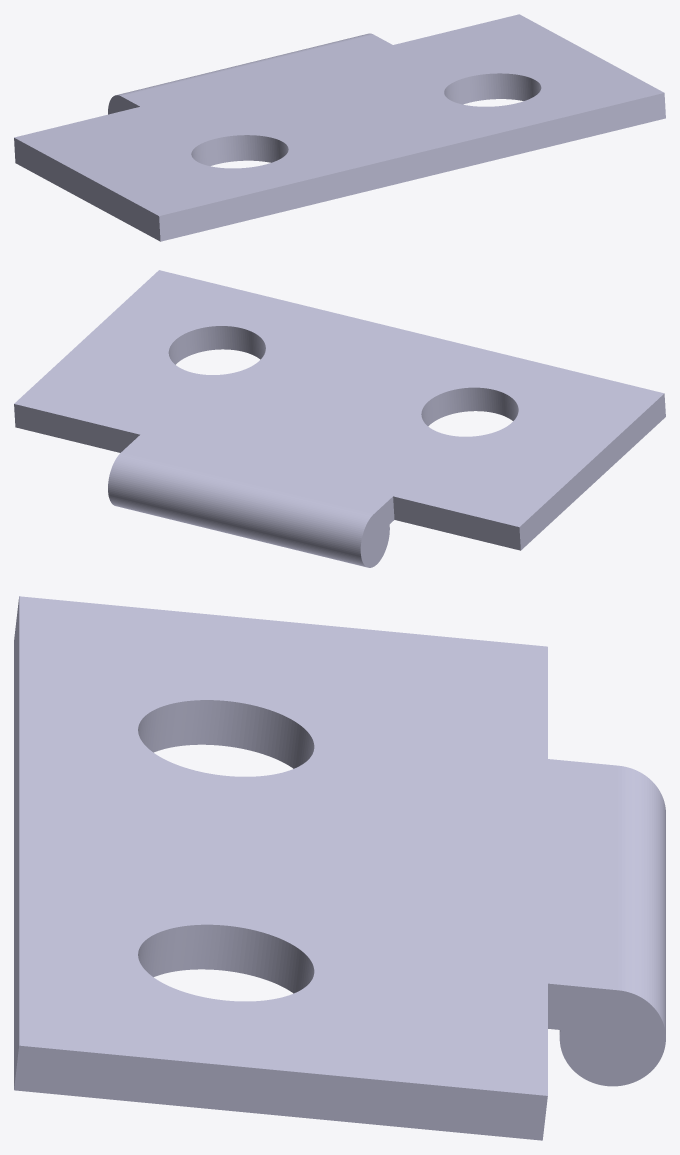
The model's file is hingea.dae.
3 renders of one model, top to bottom at view 1: azimuth 30°, elevation 25°; view 2: azimuth 150°, elevation 25°; view 3: azimuth 270°, elevation 25°, orthographic. The views are drawn at different scales.
Visible parts, largest first — view 1: node0; view 2: node0; view 3: node0.
Boxes of the visible parts, x1,y1,x2,y2 form: node0: (14, 14, 665, 241); node0: (14, 270, 665, 567); node0: (14, 596, 665, 1140).
Bounding box in the file's own units: 0.03 × 0.0184 × 0.00477.
